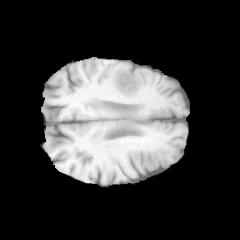glioma: (113, 69, 142, 97)
